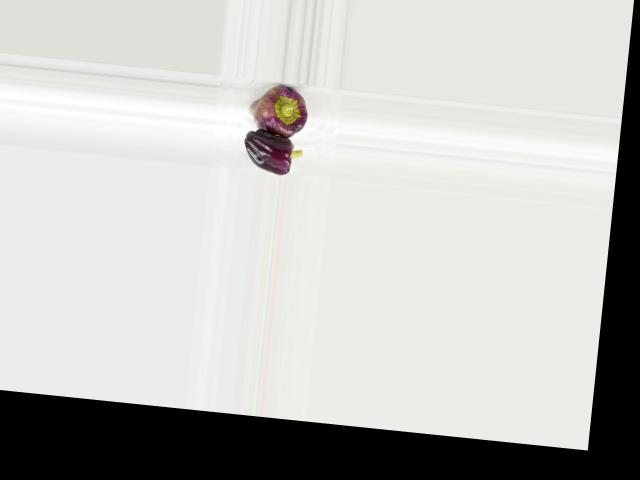bell_pepper: (236, 79, 322, 141)
